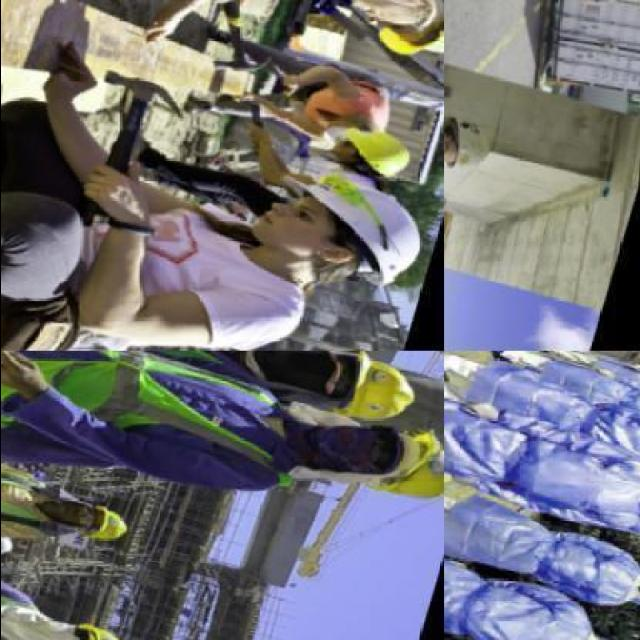helmet: (320, 182, 426, 298), (336, 356, 418, 432), (377, 421, 441, 502), (346, 120, 414, 182)
